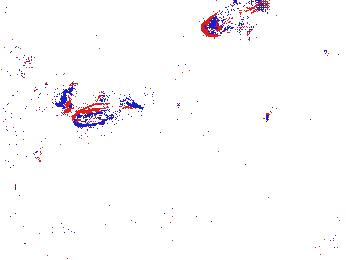X-ray fish: (1, 42, 36, 80)
red belly glassfish: (71, 91, 140, 128), (321, 47, 343, 69), (58, 87, 73, 112)
redtail glassfish: (200, 1, 274, 39)
